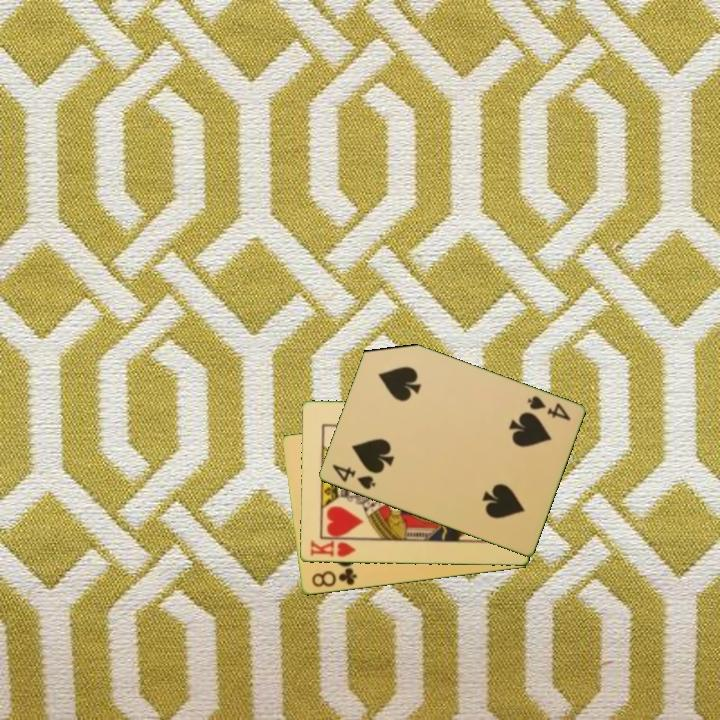4s: (523, 392, 573, 424), (328, 461, 378, 492)
8c: (308, 565, 360, 590)
Kh: (306, 536, 362, 560)
